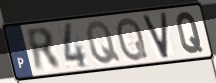4: (62, 21, 90, 70)
Q: (84, 20, 123, 66), (115, 16, 150, 64), (175, 10, 205, 56)
R: (24, 26, 64, 74)
V: (141, 11, 170, 61)
